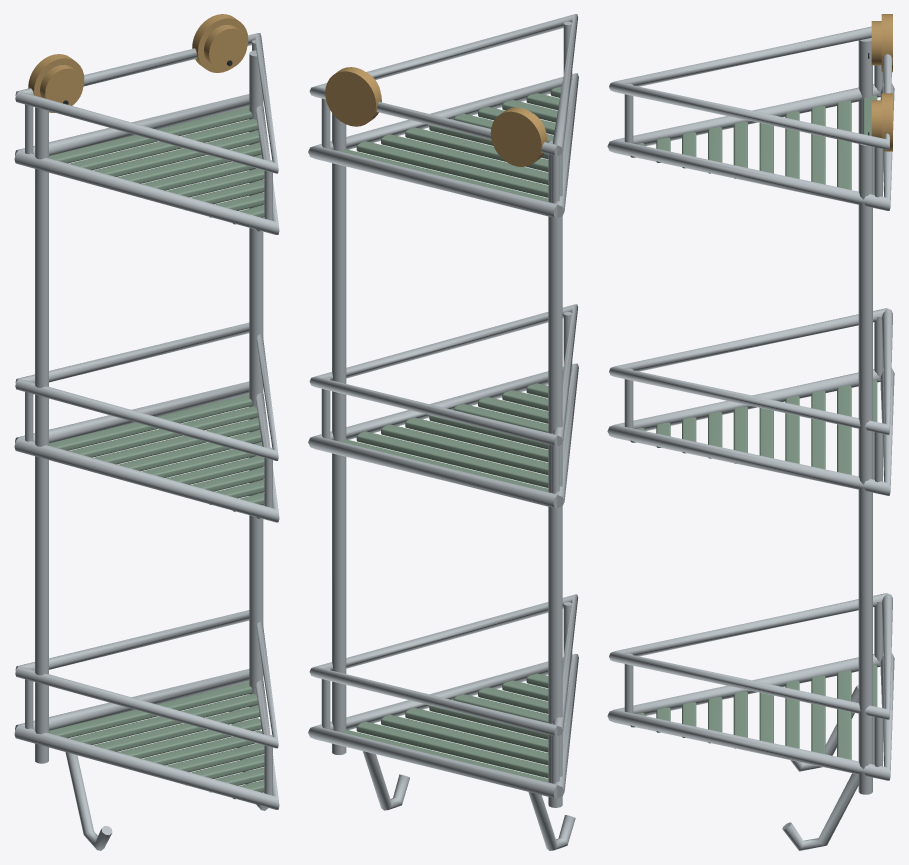
File: bath-shower-caddy.glb
3 renders of one model, left to right at view 1: azimuth 30°, elevation 25°; view 2: azimuth 150°, elevation 25°; view 3: azimuth 270°, elevation 25°, orthographic.
Visible parts, largest first — view 1: bath-shower-caddy authored assembly; view 2: bath-shower-caddy authored assembly; view 3: bath-shower-caddy authored assembly.
Part boxes in pixels (x1,y1,x2,y2): bath-shower-caddy authored assembly: [14, 14, 279, 850]; bath-shower-caddy authored assembly: [308, 14, 578, 850]; bath-shower-caddy authored assembly: [607, 14, 894, 850].
Size of the model in its own units: 0.2 by 0.58 by 0.2.
